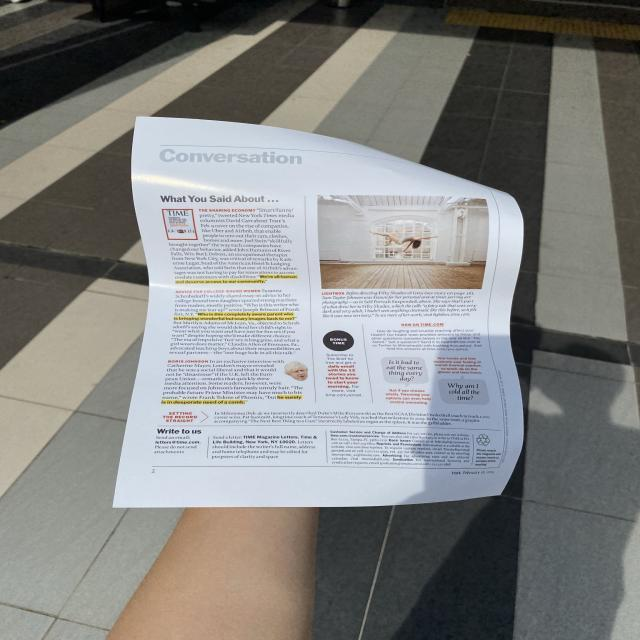document: (113, 118, 523, 508)
